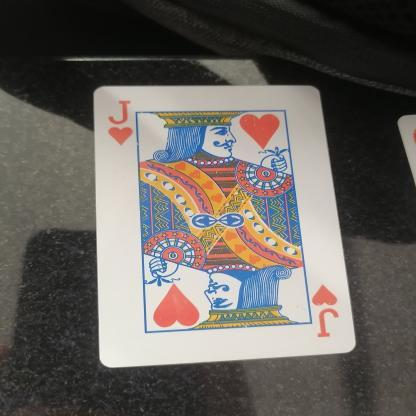JH: (306, 280, 349, 342), (102, 98, 144, 148)
